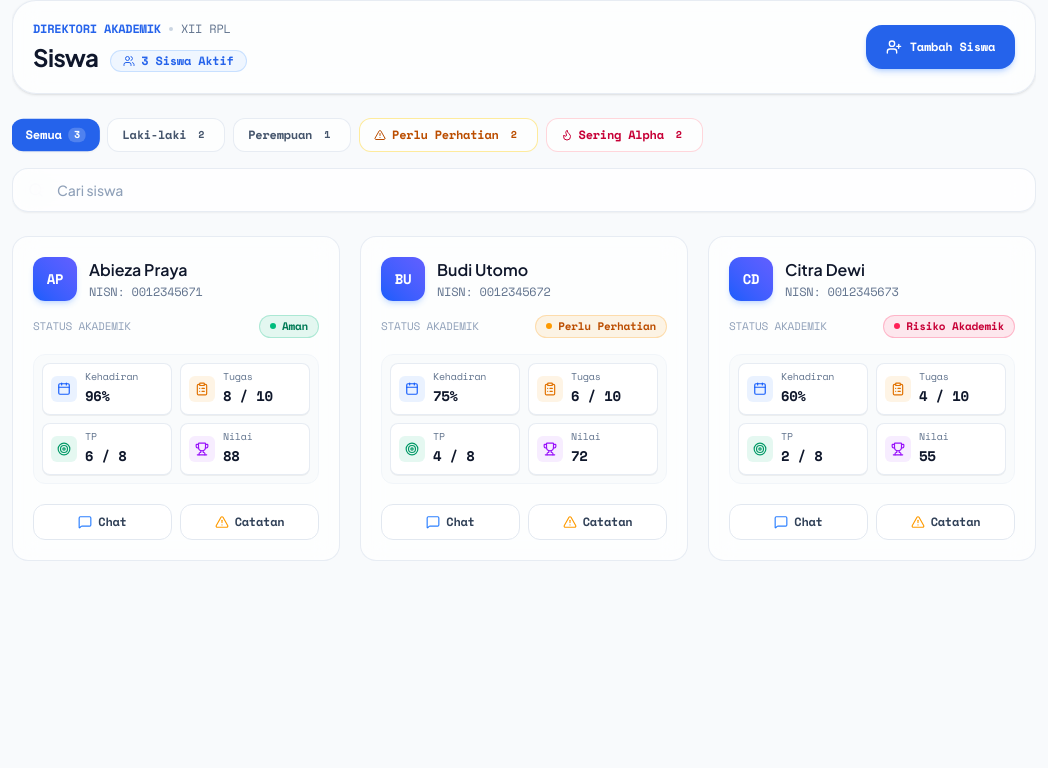
Test: STAGE UX-04: Class Student Directory & Academic Health Monitoring (Part B) › Section 2: filters students by category pills (Semua, Laki-laki, Perempuan, Perlu Perhatian, Sering Alpha)
This screenshot has width=1048, height=768.
Expected: the heading "Abieza Praya" is shown, [89,258,203,282]
Expected: the heading "Budi Utomo" is shown, [437,259,528,280]
# Click Perempuan
Click the button "Perempuan 1": [292, 135] box [233,118,351,152]
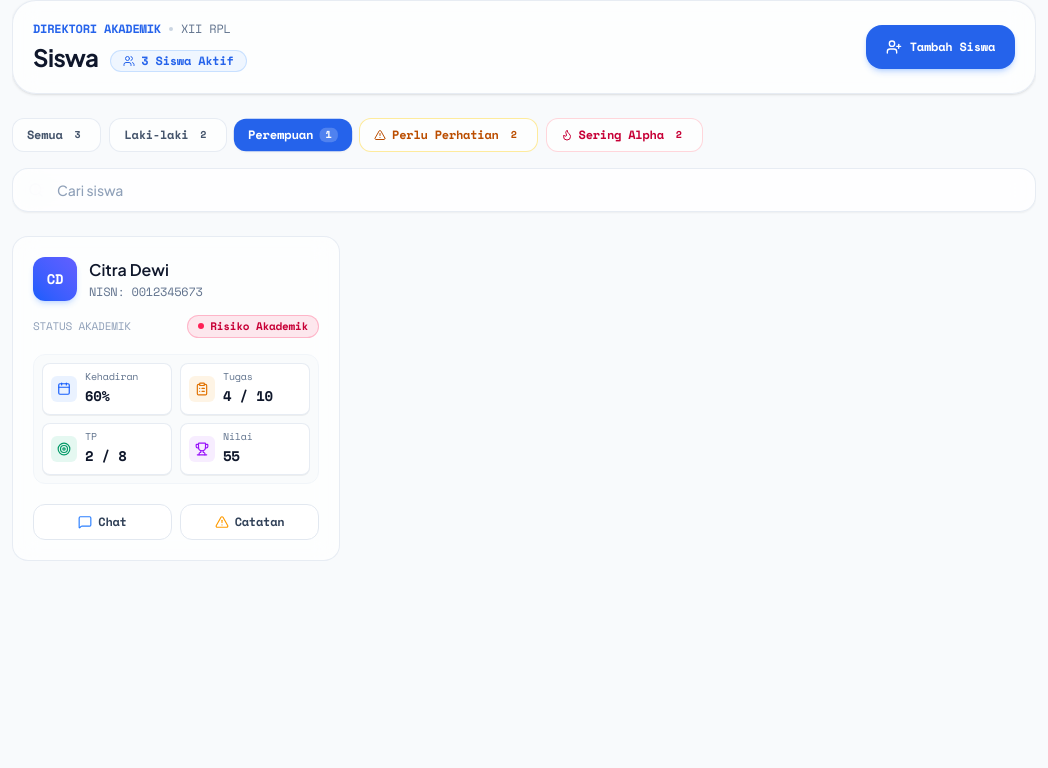
Expected: the heading "Citra Dewi" is shown, [89,259,169,280]
Result: the heading "Abieza Praya" is gone
Result: the heading "Budi Utomo" is gone
# Click Perlu Perhatian (Budi and Citra)
Click the button "Perlu Perhatian 2": [448, 135] box [359,118,538,152]
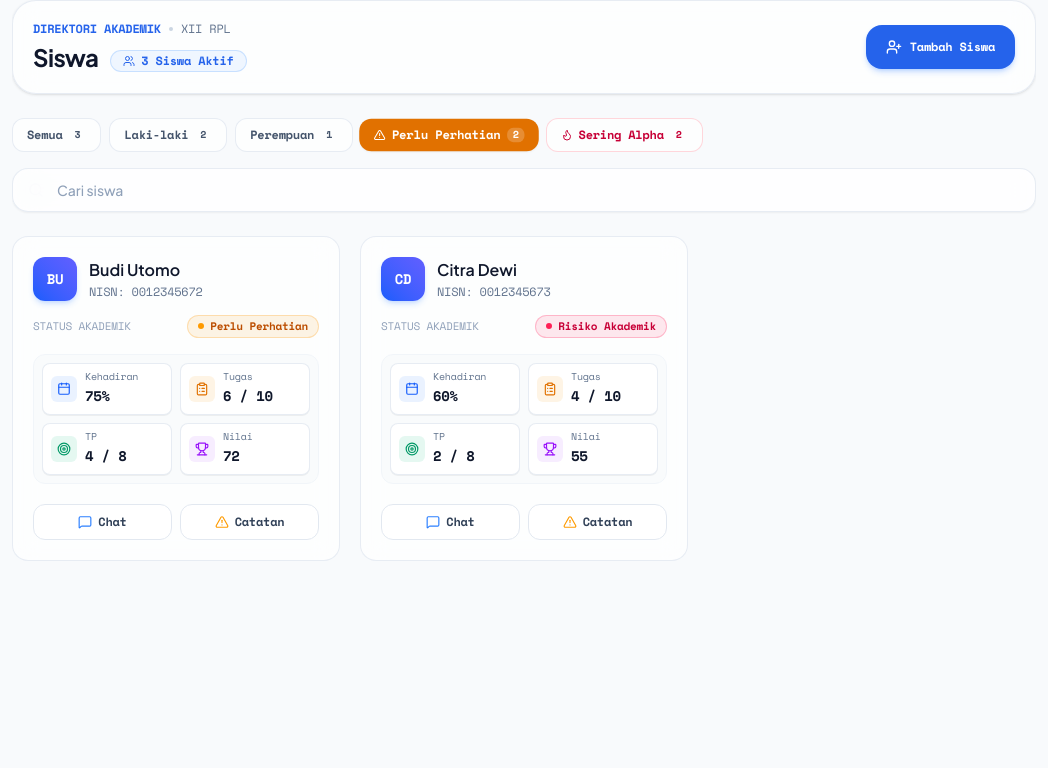
Expected: the heading "Abieza Praya" is not shown
Result: the heading "Budi Utomo" is shown at [89,259,180,280]
# Click Sering Alpha (Budi has 2 alpha, Citra has 5 alpha)
Click the button "Sering Alpha 2": [624, 135] box [546,118,703,152]
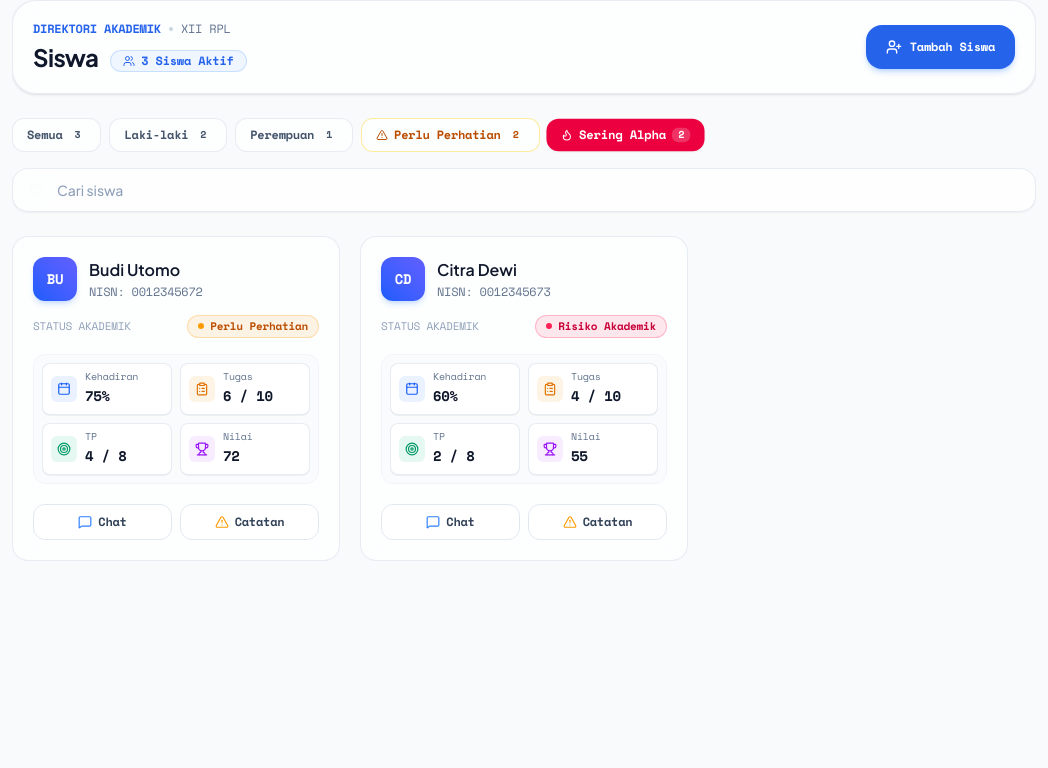
Expected: the heading "Abieza Praya" is not shown
Result: the heading "Budi Utomo" is shown at [89,259,180,280]
# Reset to Semua
Click the button "Semua 3": [57, 135] box [12,118,101,152]
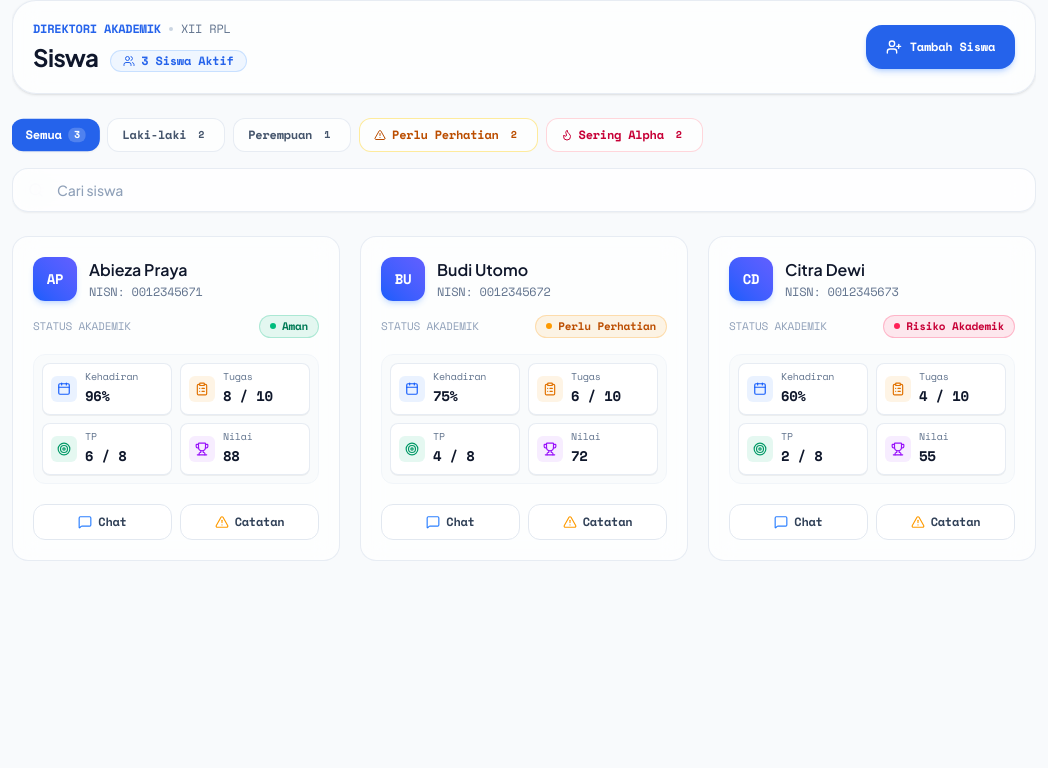
Result: the heading "Abieza Praya" is shown at [89,258,203,282]
